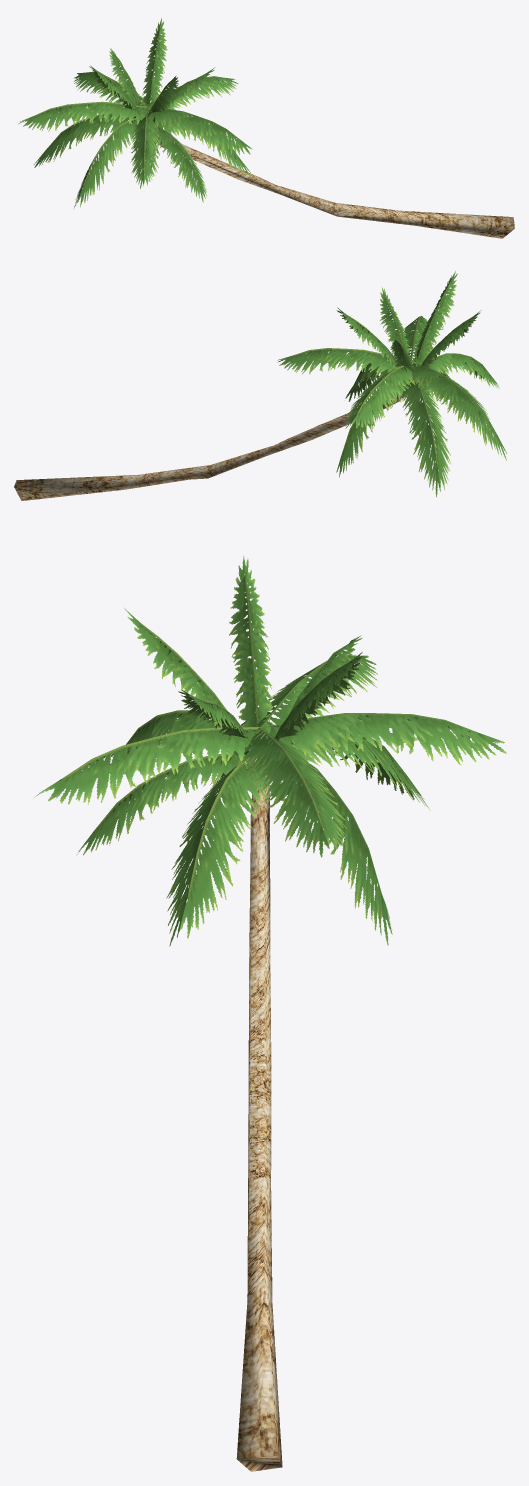
The model's file is Palm3.glb.
3 views of the same model, one above another, from view 1: azimuth 30°, elevation 25°; view 2: azimuth 150°, elevation 25°; view 3: azimuth 270°, elevation 25° (orthographic). The views are drawn at different scales.
Visible parts, largest first — view 1: Palm3; view 2: Palm3; view 3: Palm3.
Part boxes in pixels (box(x1,y1,x2,y2)): Palm3: box(18, 17, 514, 238); Palm3: box(14, 271, 507, 500); Palm3: box(34, 555, 506, 1471).
Bounding box in the file's own units: 18.62 × 10.37 × 8.83.
1 material, 1 textured.
